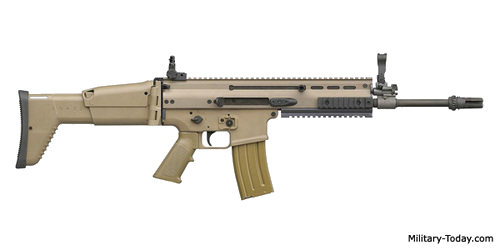Arma Real: (16, 52, 485, 206)
